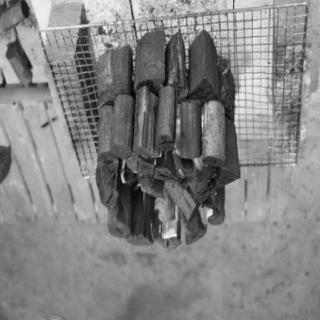Fire: (130, 100, 214, 246)
